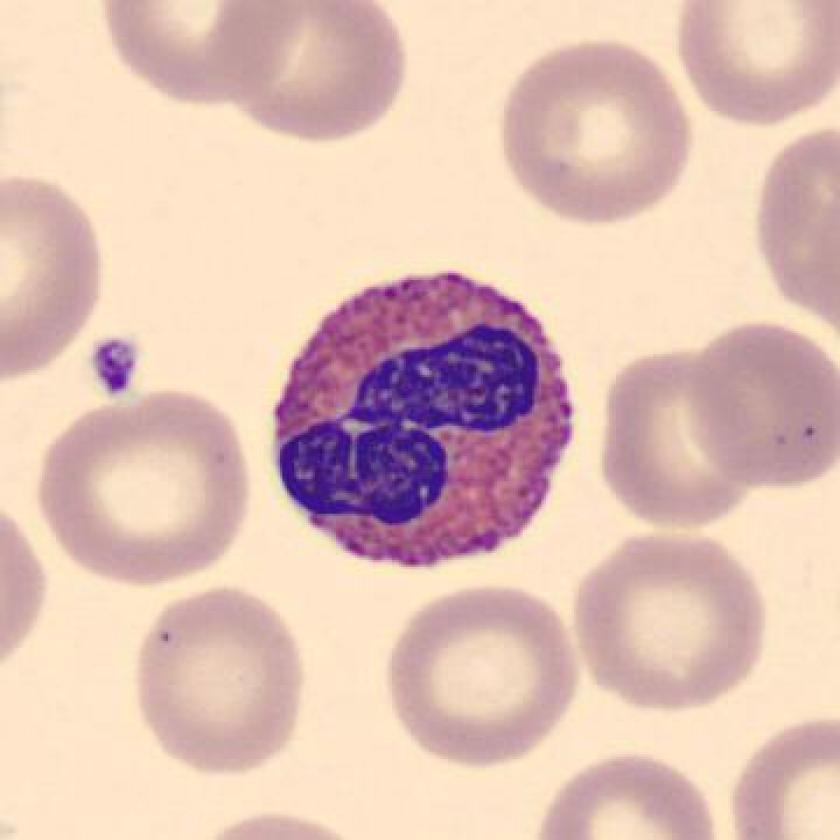eosinophil: (265, 263, 591, 573)
